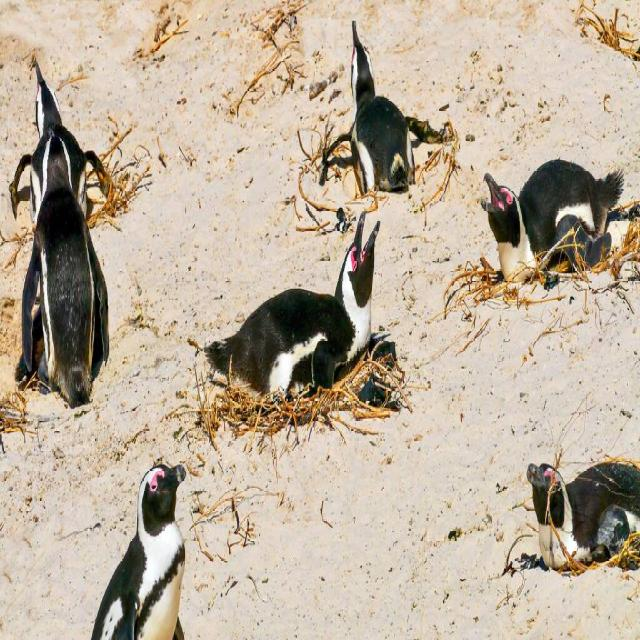Penguins: (196, 211, 401, 415), (9, 64, 115, 414), (512, 438, 639, 613), (469, 156, 626, 286), (88, 451, 195, 640), (344, 11, 429, 200)
